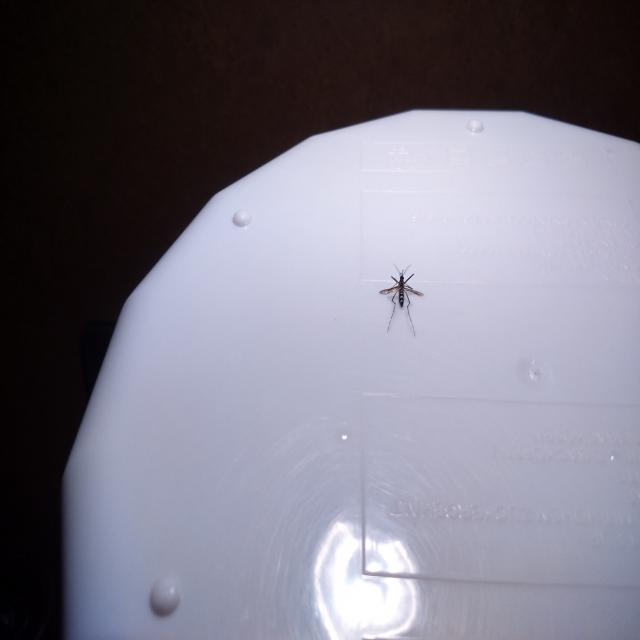albopictus: (378, 257, 425, 336)
